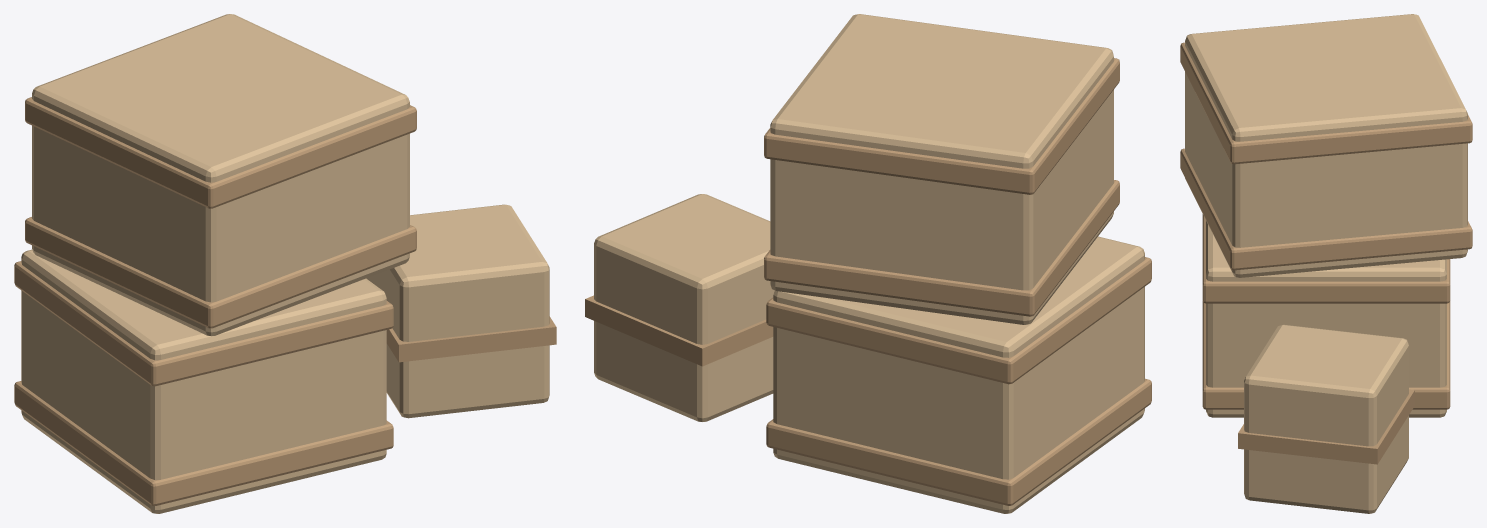
The model's file is caixa.glb.
The picture shows the model from 3 angles, left to right: view 1: azimuth 30°, elevation 25°; view 2: azimuth 150°, elevation 25°; view 3: azimuth 270°, elevation 25°; orthographic projection. The views are drawn at different scales.
Parts seen in each view (by area): view 1: agro_caixa_00; view 2: agro_caixa_00; view 3: agro_caixa_00.
Boxes of the visible parts, x1,y1,x2,y2 form: agro_caixa_00: (14,14,556,513); agro_caixa_00: (585,14,1151,513); agro_caixa_00: (1180,14,1472,513).
Bounding box in the file's own units: 1.38 × 0.99 × 0.8498.
